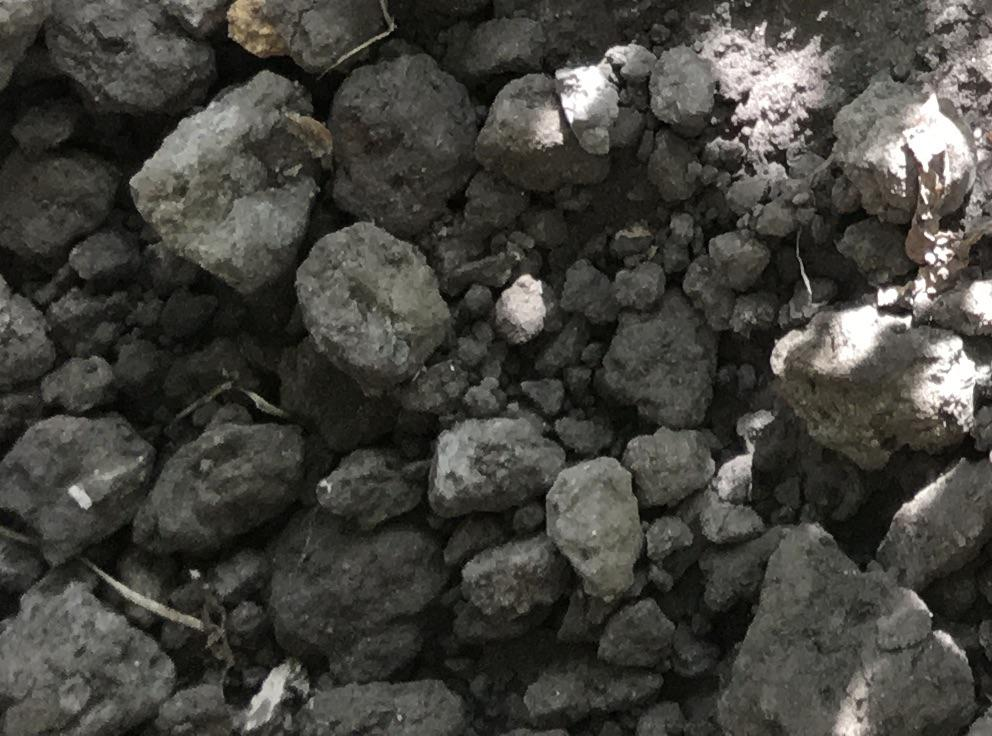block: (715, 517, 982, 736), (117, 70, 315, 296), (769, 307, 983, 470), (291, 223, 452, 396), (324, 54, 472, 235), (1, 410, 163, 568), (832, 77, 974, 230)
